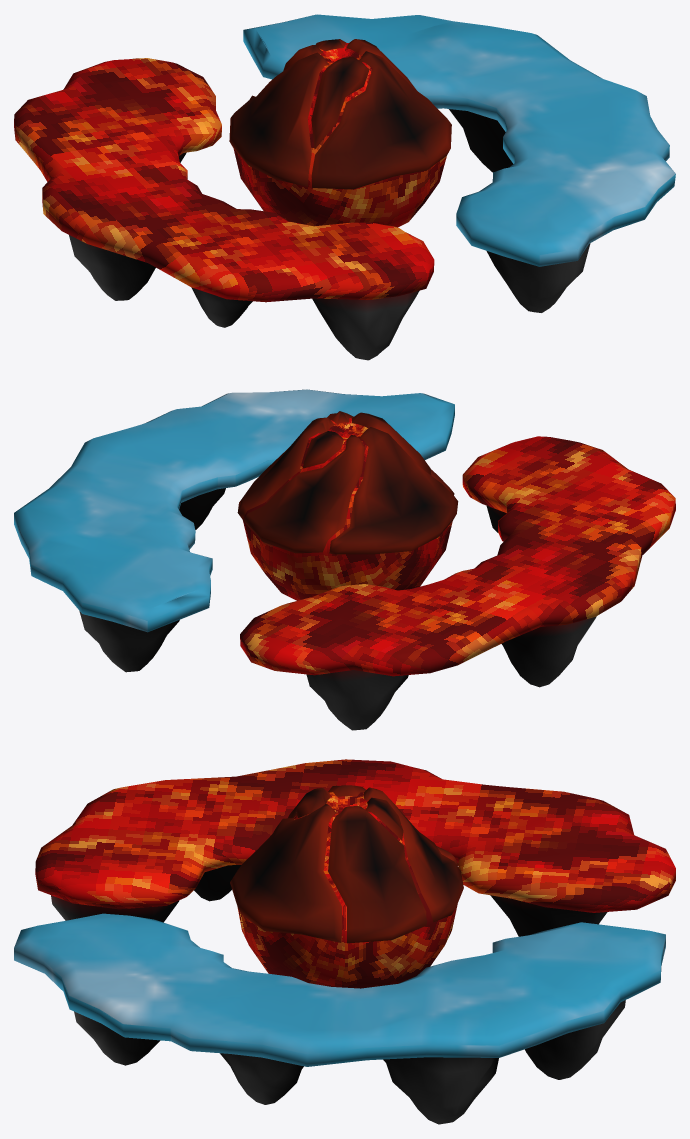
The model's file is ShiverBurn(Final).glb.
The picture shows the model from 3 angles, top to bottom: view 1: azimuth 30°, elevation 25°; view 2: azimuth 150°, elevation 25°; view 3: azimuth 270°, elevation 25°; orthographic projection. The views are drawn at different scales.
Visible parts, largest first — view 1: m1, m2, m0_VC; view 2: m1, m2, m0_VC; view 3: m1, m2, m0_VC.
Boxes of the visible parts, box(x1,y1,x2,y2) form: m1: box(14, 43, 446, 302); m2: box(243, 14, 675, 266); m0_VC: box(69, 39, 590, 360); m1: box(240, 418, 675, 676); m2: box(14, 389, 454, 632); m0_VC: box(79, 411, 596, 730); m1: box(35, 759, 675, 988); m2: box(14, 913, 665, 1066); m0_VC: box(51, 785, 625, 1124).
Bounding box in the file's own units: 38.35 × 13.97 × 36.7.
Materials: 3 (3 with a texture image).
